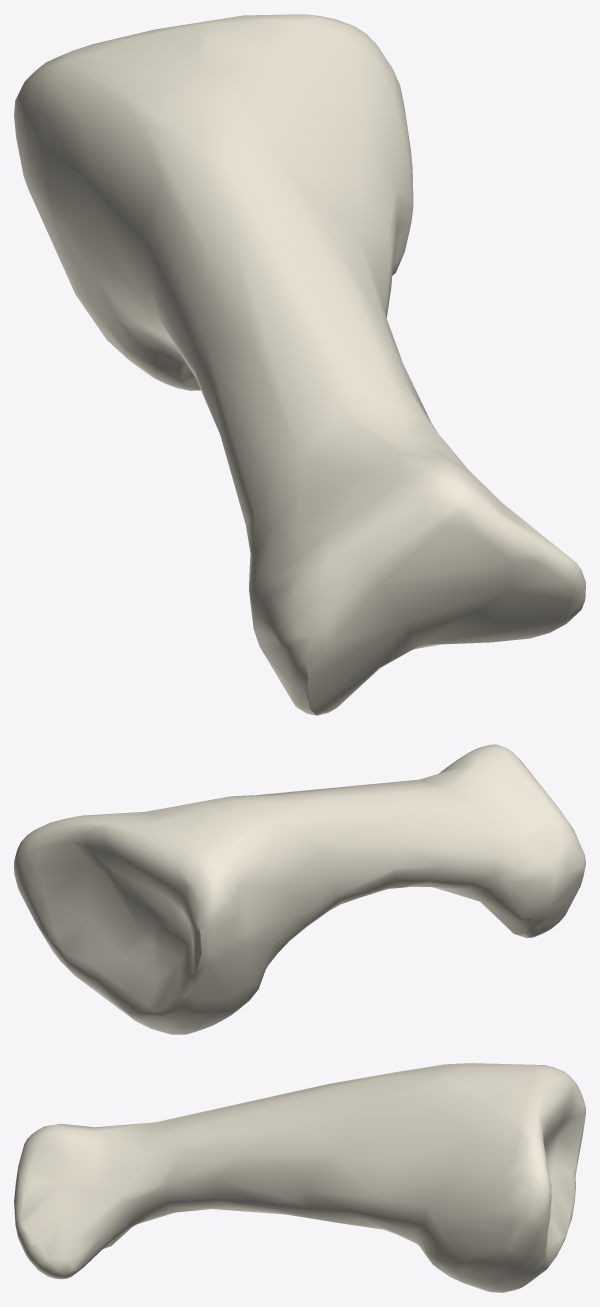
The model's file is fma32634.glb.
3 views of the same model, one above another, from view 1: azimuth 30°, elevation 25°; view 2: azimuth 150°, elevation 25°; view 3: azimuth 270°, elevation 25° (orthographic). The views are drawn at different scales.
Visible parts, largest first — view 1: FMA32634; view 2: FMA32634; view 3: FMA32634.
Part boxes in pixels (left/top/right/bottom): FMA32634: left=14, top=14, right=585, bottom=715; FMA32634: left=14, top=744, right=585, bottom=1034; FMA32634: left=14, top=1063, right=585, bottom=1292.
Bounding box in the file's own units: 0.0174 × 0.0125 × 0.0285.
